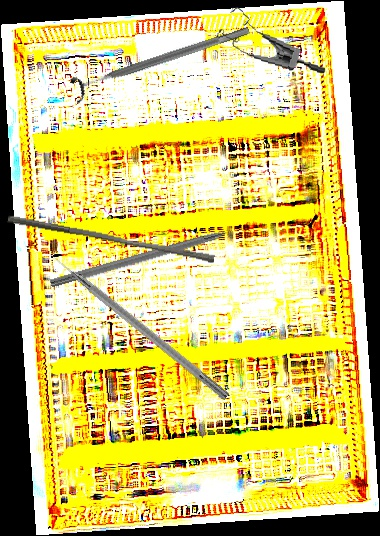Fixation Ring: (68, 16, 254, 105)
Hook Surgical: (41, 244, 231, 402), (49, 221, 252, 291)
Pusher: (6, 214, 216, 264)
Speculum: (212, 4, 334, 76)
